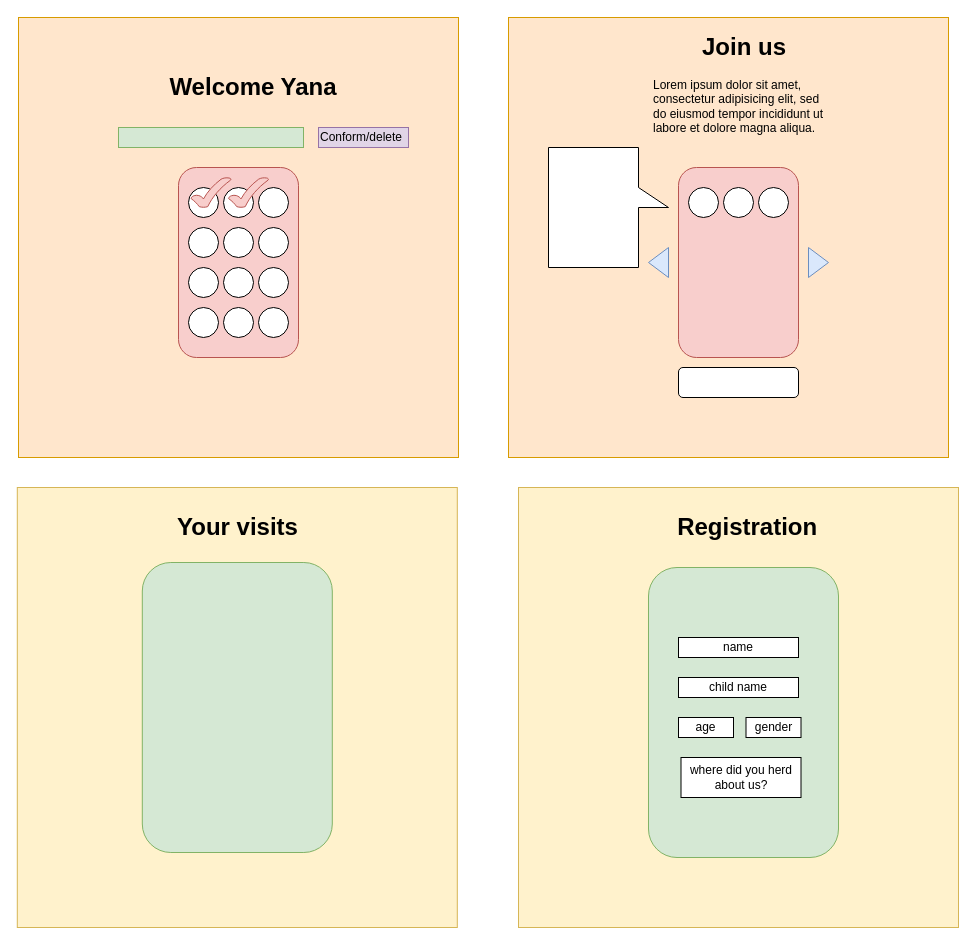
Some shapes in this 977 by 945 pixel diagram are drawn without their labels. The box of each missing label's shape, as (x1, y1, x2, y2) in pixels:
Calender: (141, 562, 332, 852)
date: (118, 126, 304, 148)
join: (678, 366, 798, 398)
